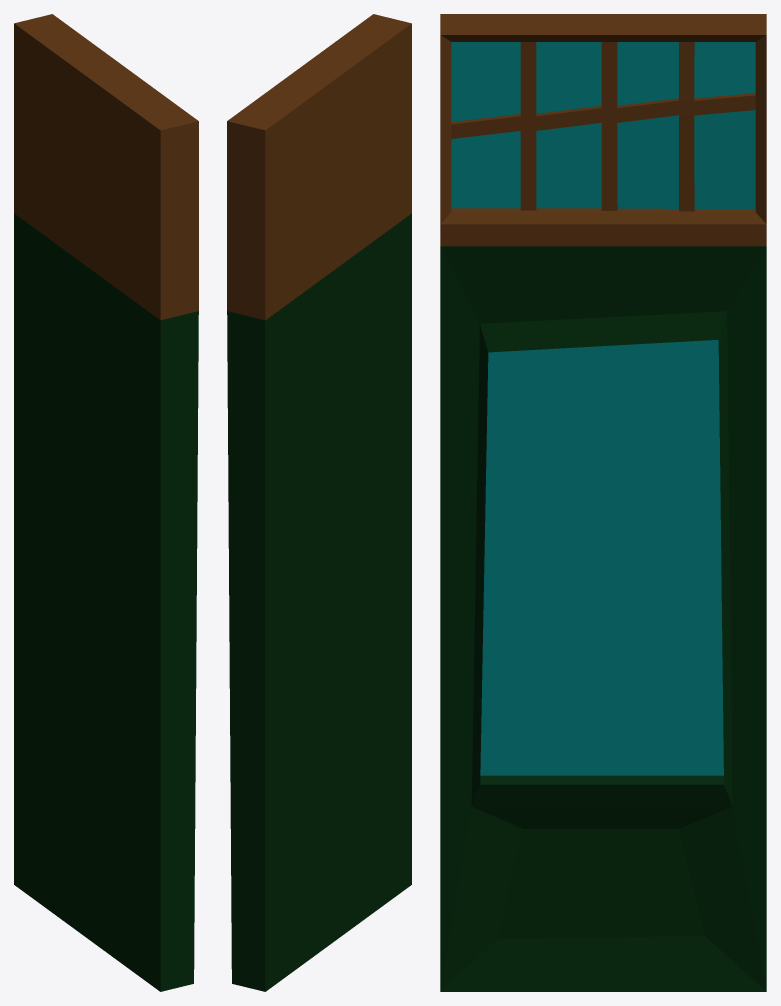
Rendered from GrocerDoor.fbx.
The picture shows the model from 3 angles, left to right: view 1: azimuth 30°, elevation 25°; view 2: azimuth 150°, elevation 25°; view 3: azimuth 270°, elevation 25°; orthographic projection. The views are drawn at different scales.
Parts seen in each view (by area): view 1: Cube.019; view 2: Cube.019; view 3: Cube.019.
Part boxes in pixels (x1,y1,x2,y2): Cube.019: (14,14,198,991); Cube.019: (227,14,411,991); Cube.019: (440,14,766,991).
Bounding box in the file's own units: 15.39 × 97.98 × 318.
